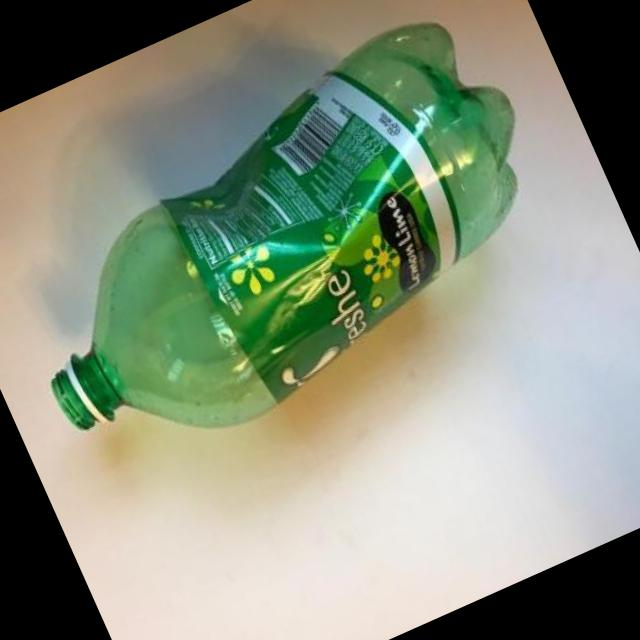BotolPlastik: (0, 0, 587, 491)
